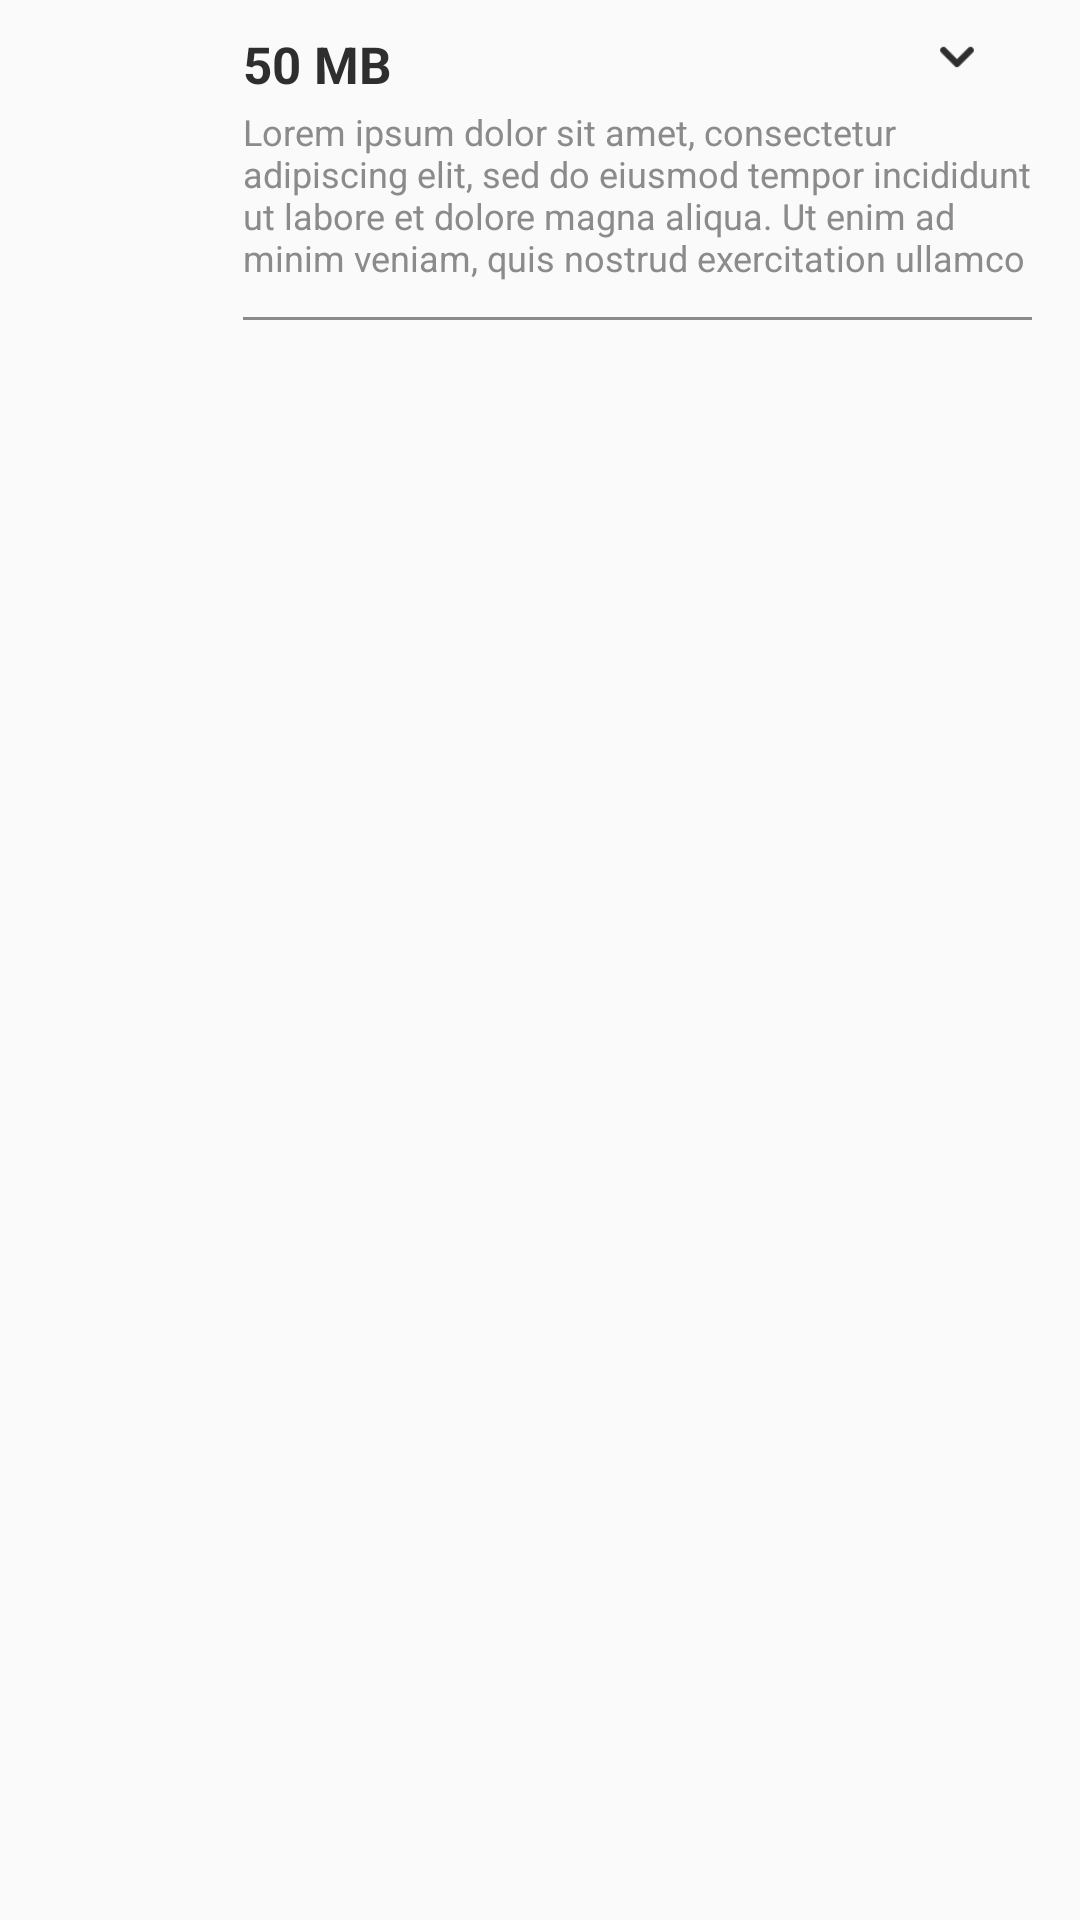

Locate icon controls on the screen. Image size 1080w x 1920h, boxes as rect(x1, y1, x2, y2).
close expandable view: rect(940, 46, 974, 68)
